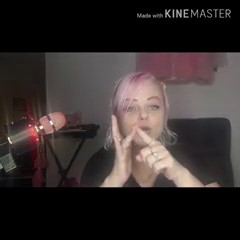O: (105, 111, 177, 184)
